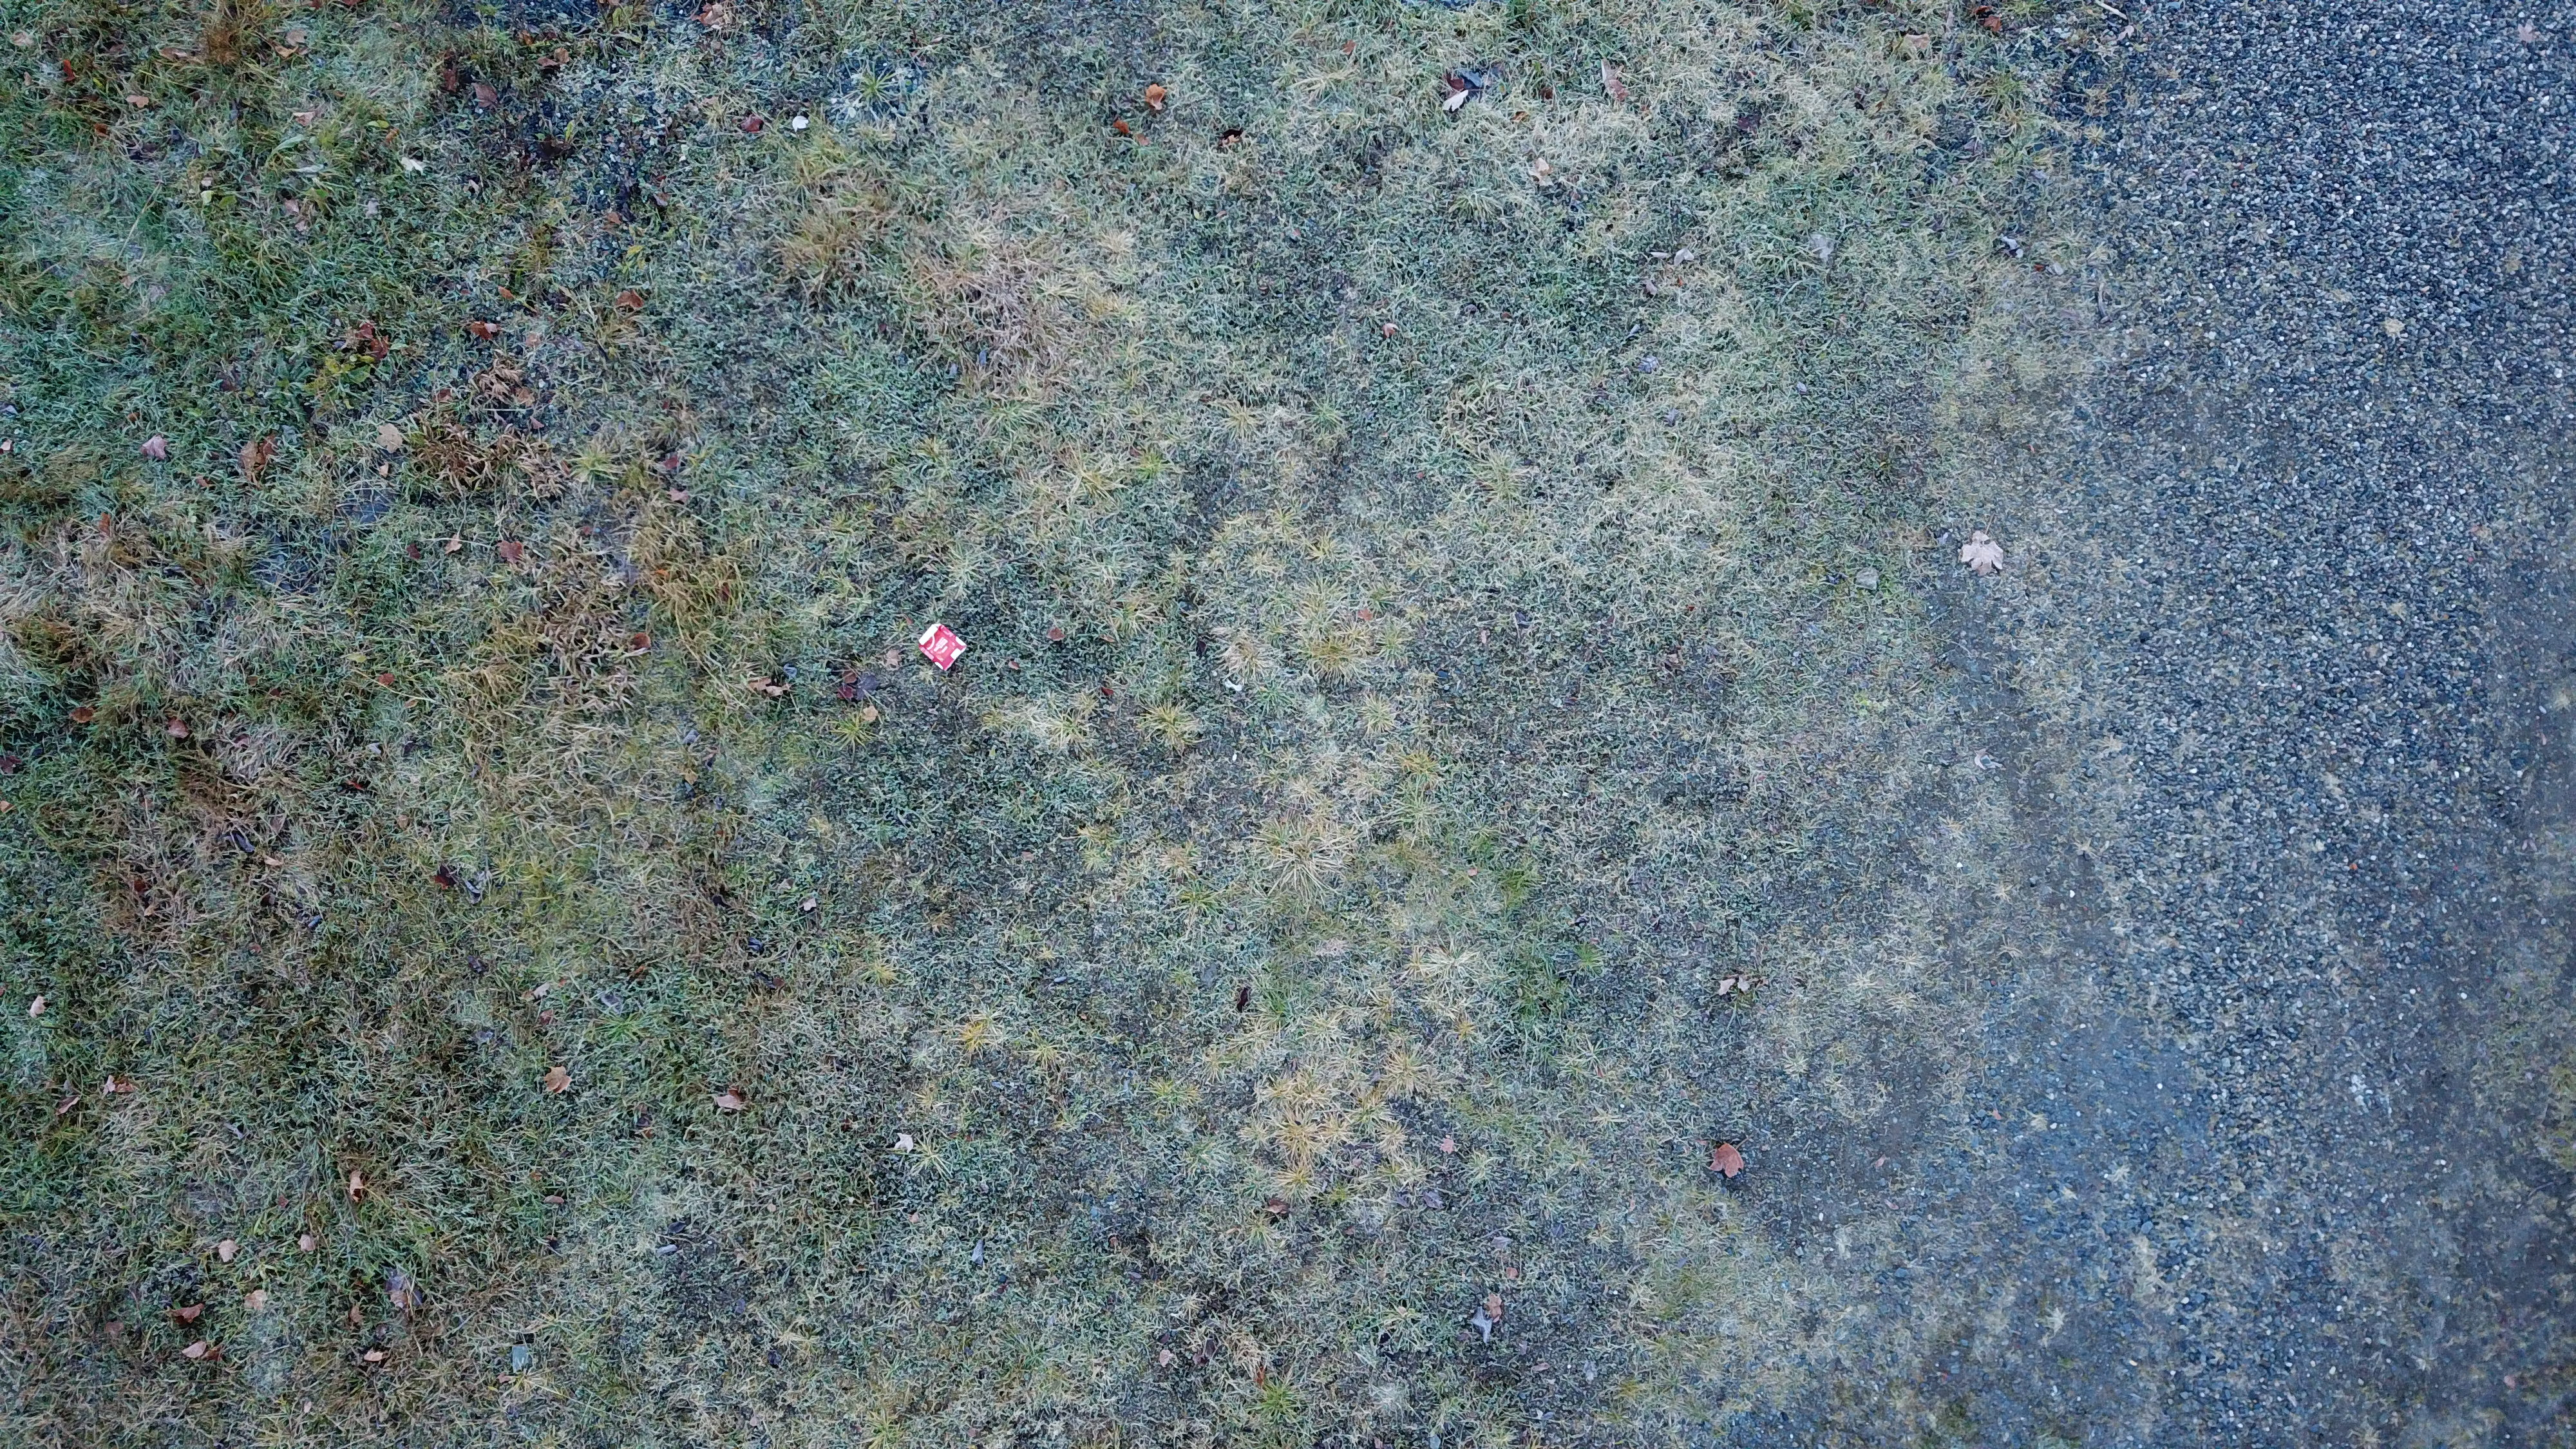Other: (913, 619, 975, 671)
